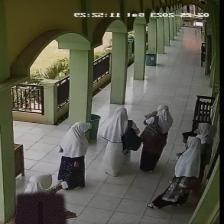Cadar_Niqab: (14, 172, 66, 224)
